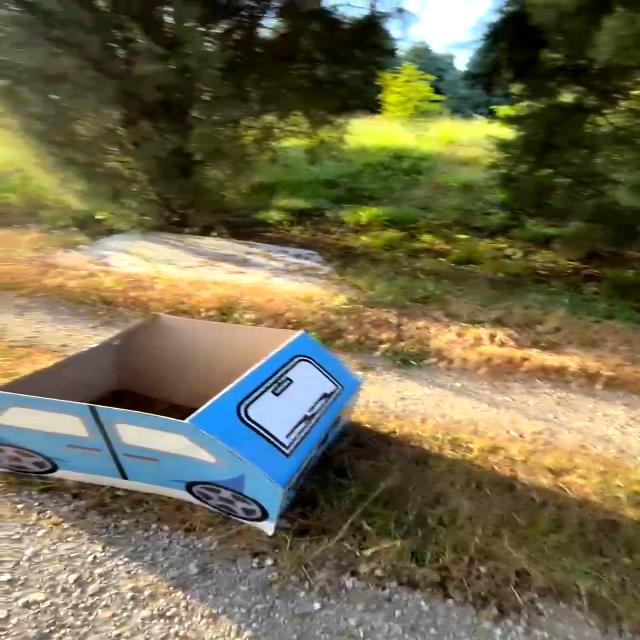blue_car: (0, 309, 460, 557)
